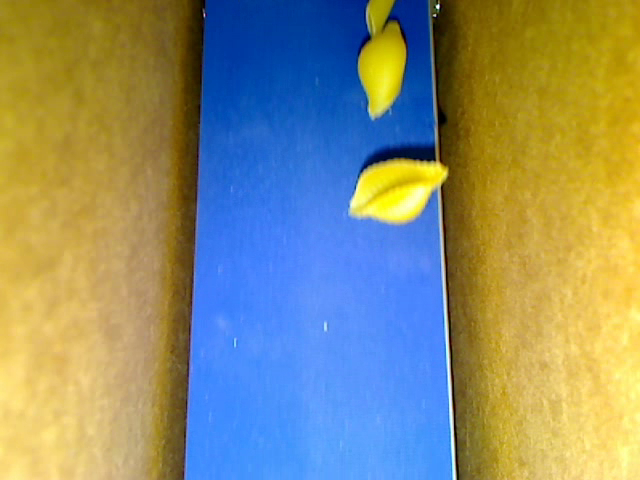penne: (365, 1, 393, 39)
shell: (348, 157, 449, 223), (357, 21, 405, 119)
